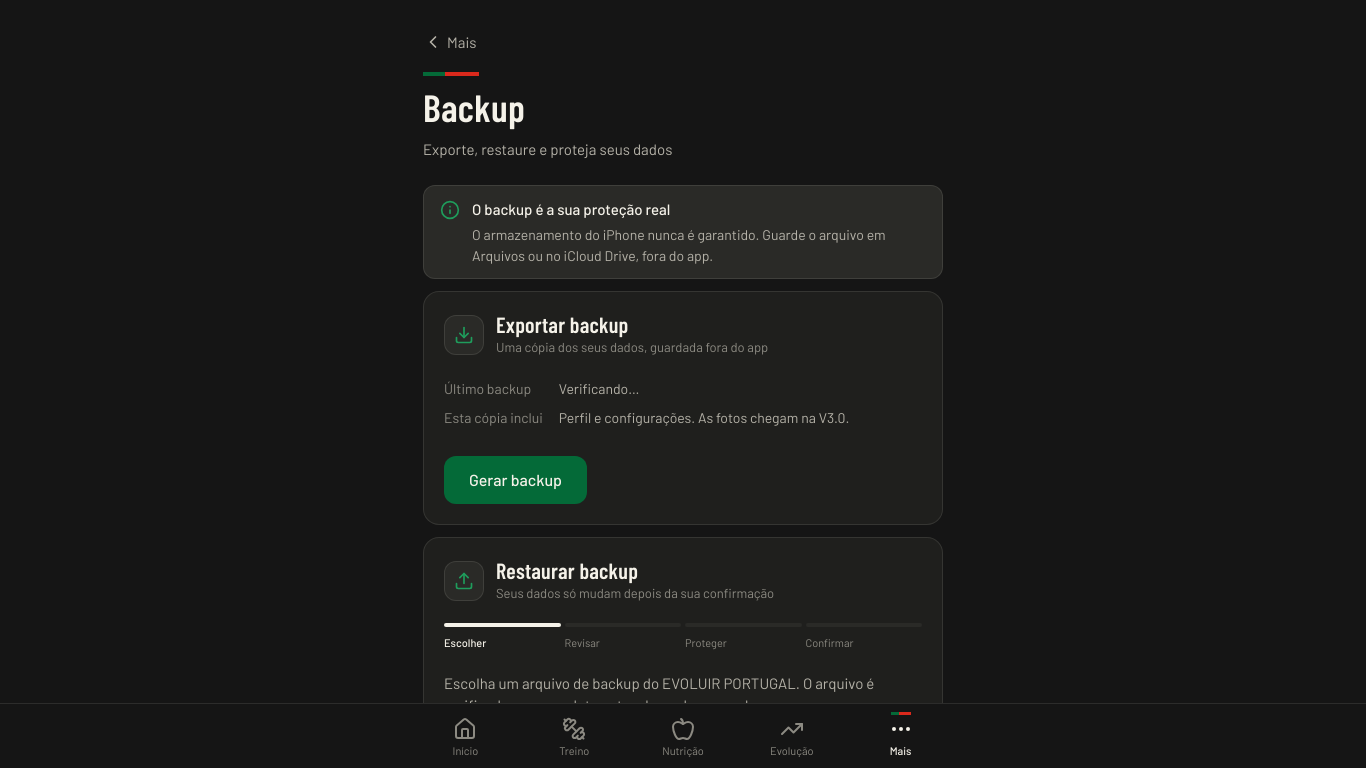
Test: exportar › gera o backup, entrega o arquivo e registra a data
Click the button "Gerar backup".
click(515, 480)  # box [444,456,587,504]
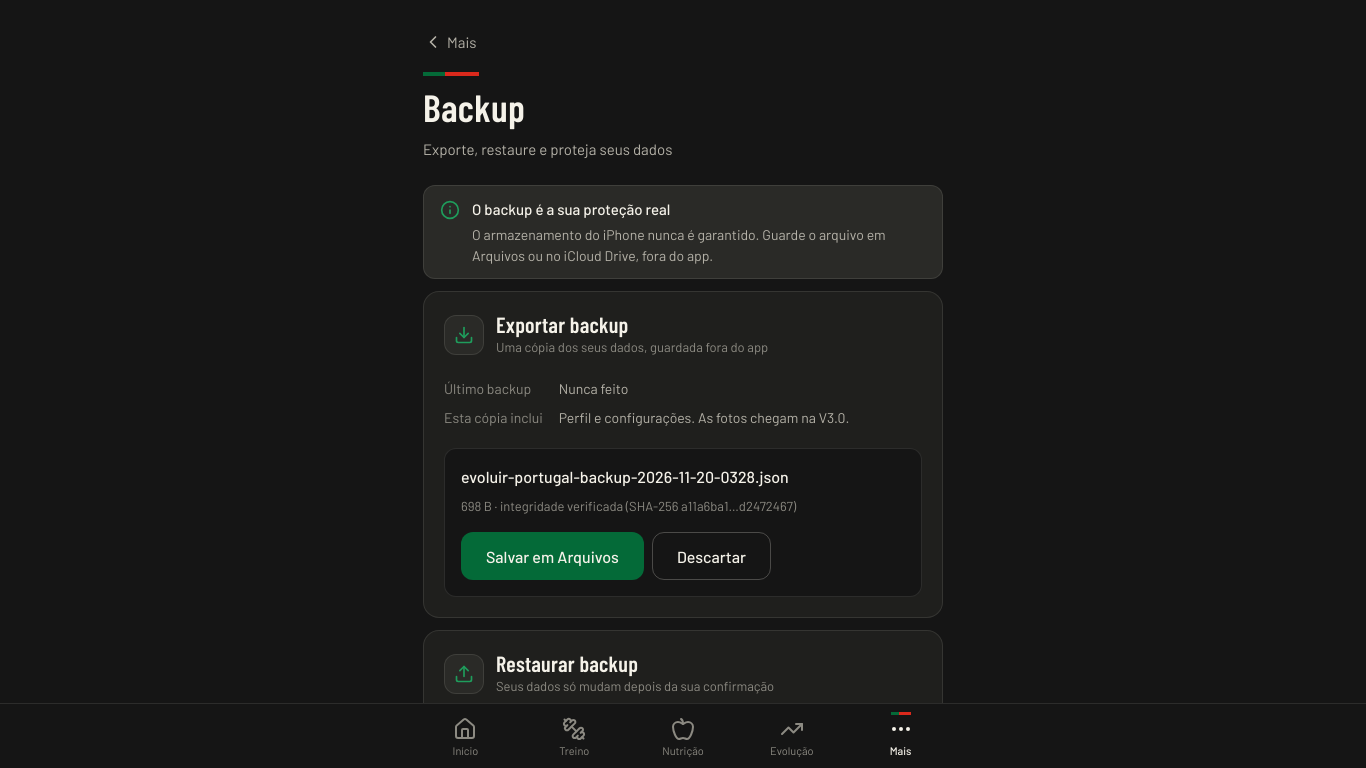
Expected: the text "698 B · integridade verificada (SHA-256 a11a6ba1…d2472467)" is shown, [461,498,796,514]
Click the button "Salvar em Arquivos".
click(552, 556)  # box [461,532,644,580]
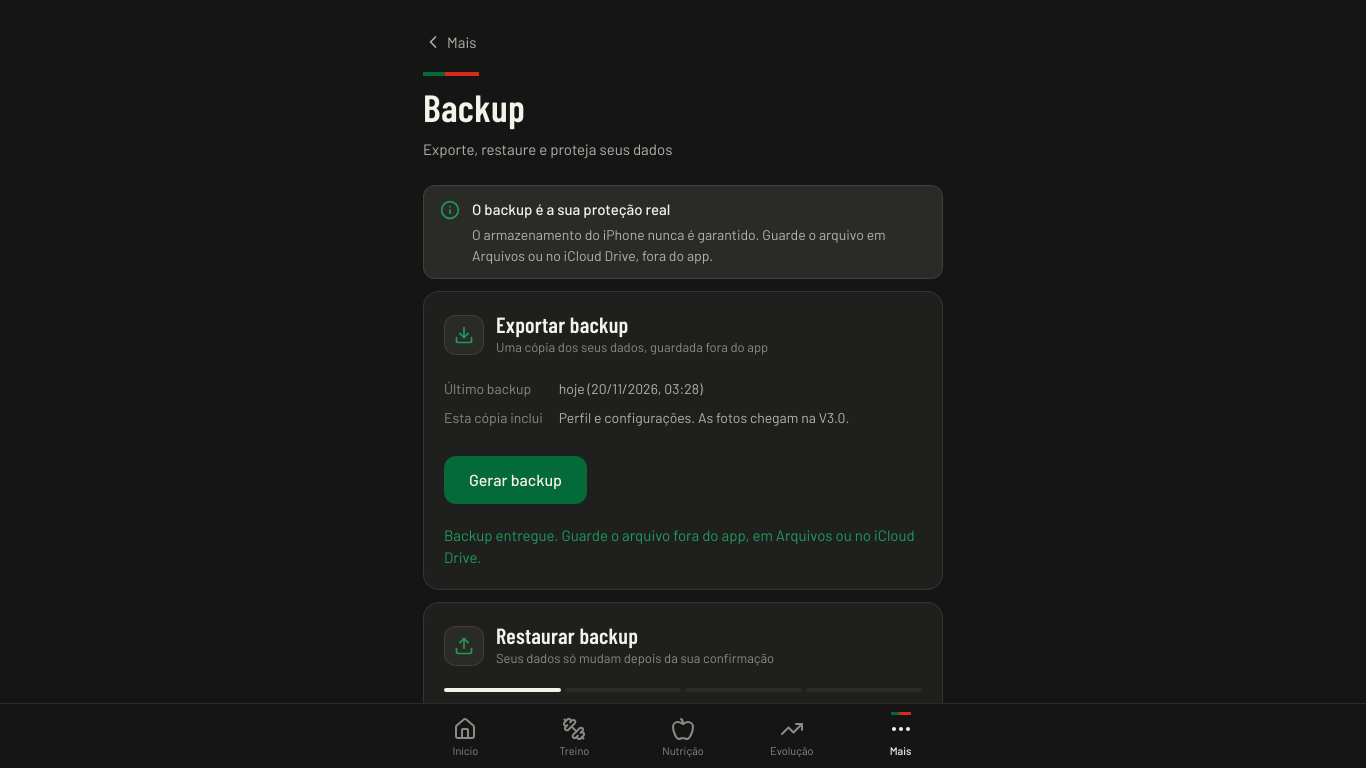
Expected: the text "Backup entregue. Guarde o arquivo fora do app, em Arquivos ou no iCloud Drive." is shown, [444,524,922,569]
